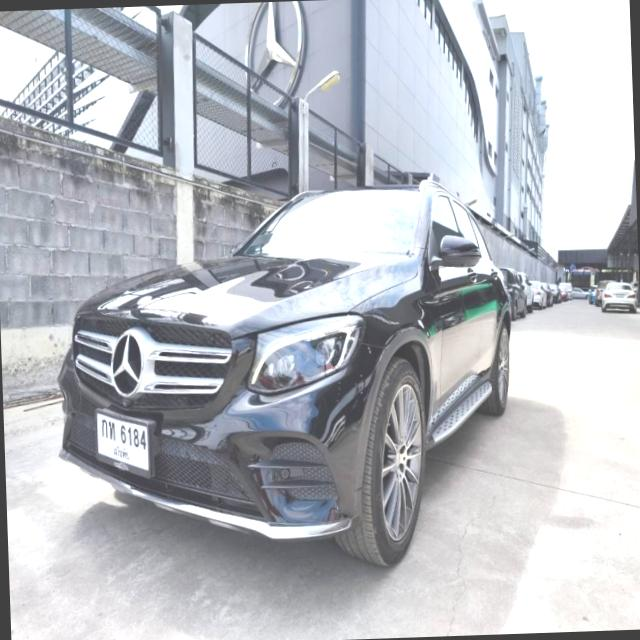license_plate: (90, 400, 156, 494)
